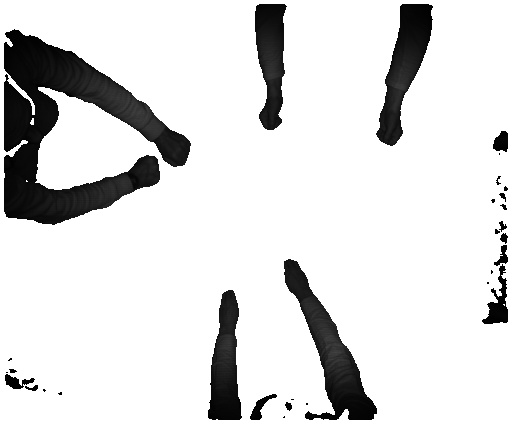fist: (159, 130, 191, 169), (256, 96, 287, 135), (376, 112, 407, 151), (131, 156, 165, 190)
hand: (280, 256, 312, 296), (216, 288, 239, 329)
